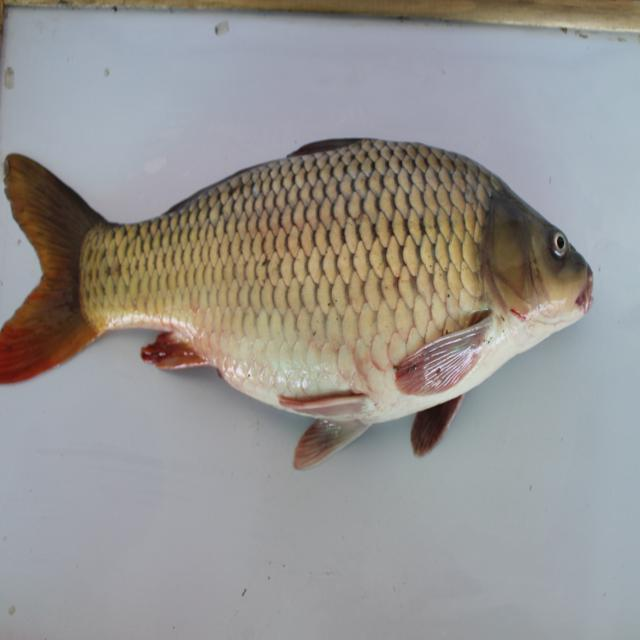CommonCarp: (4, 135, 604, 492)
